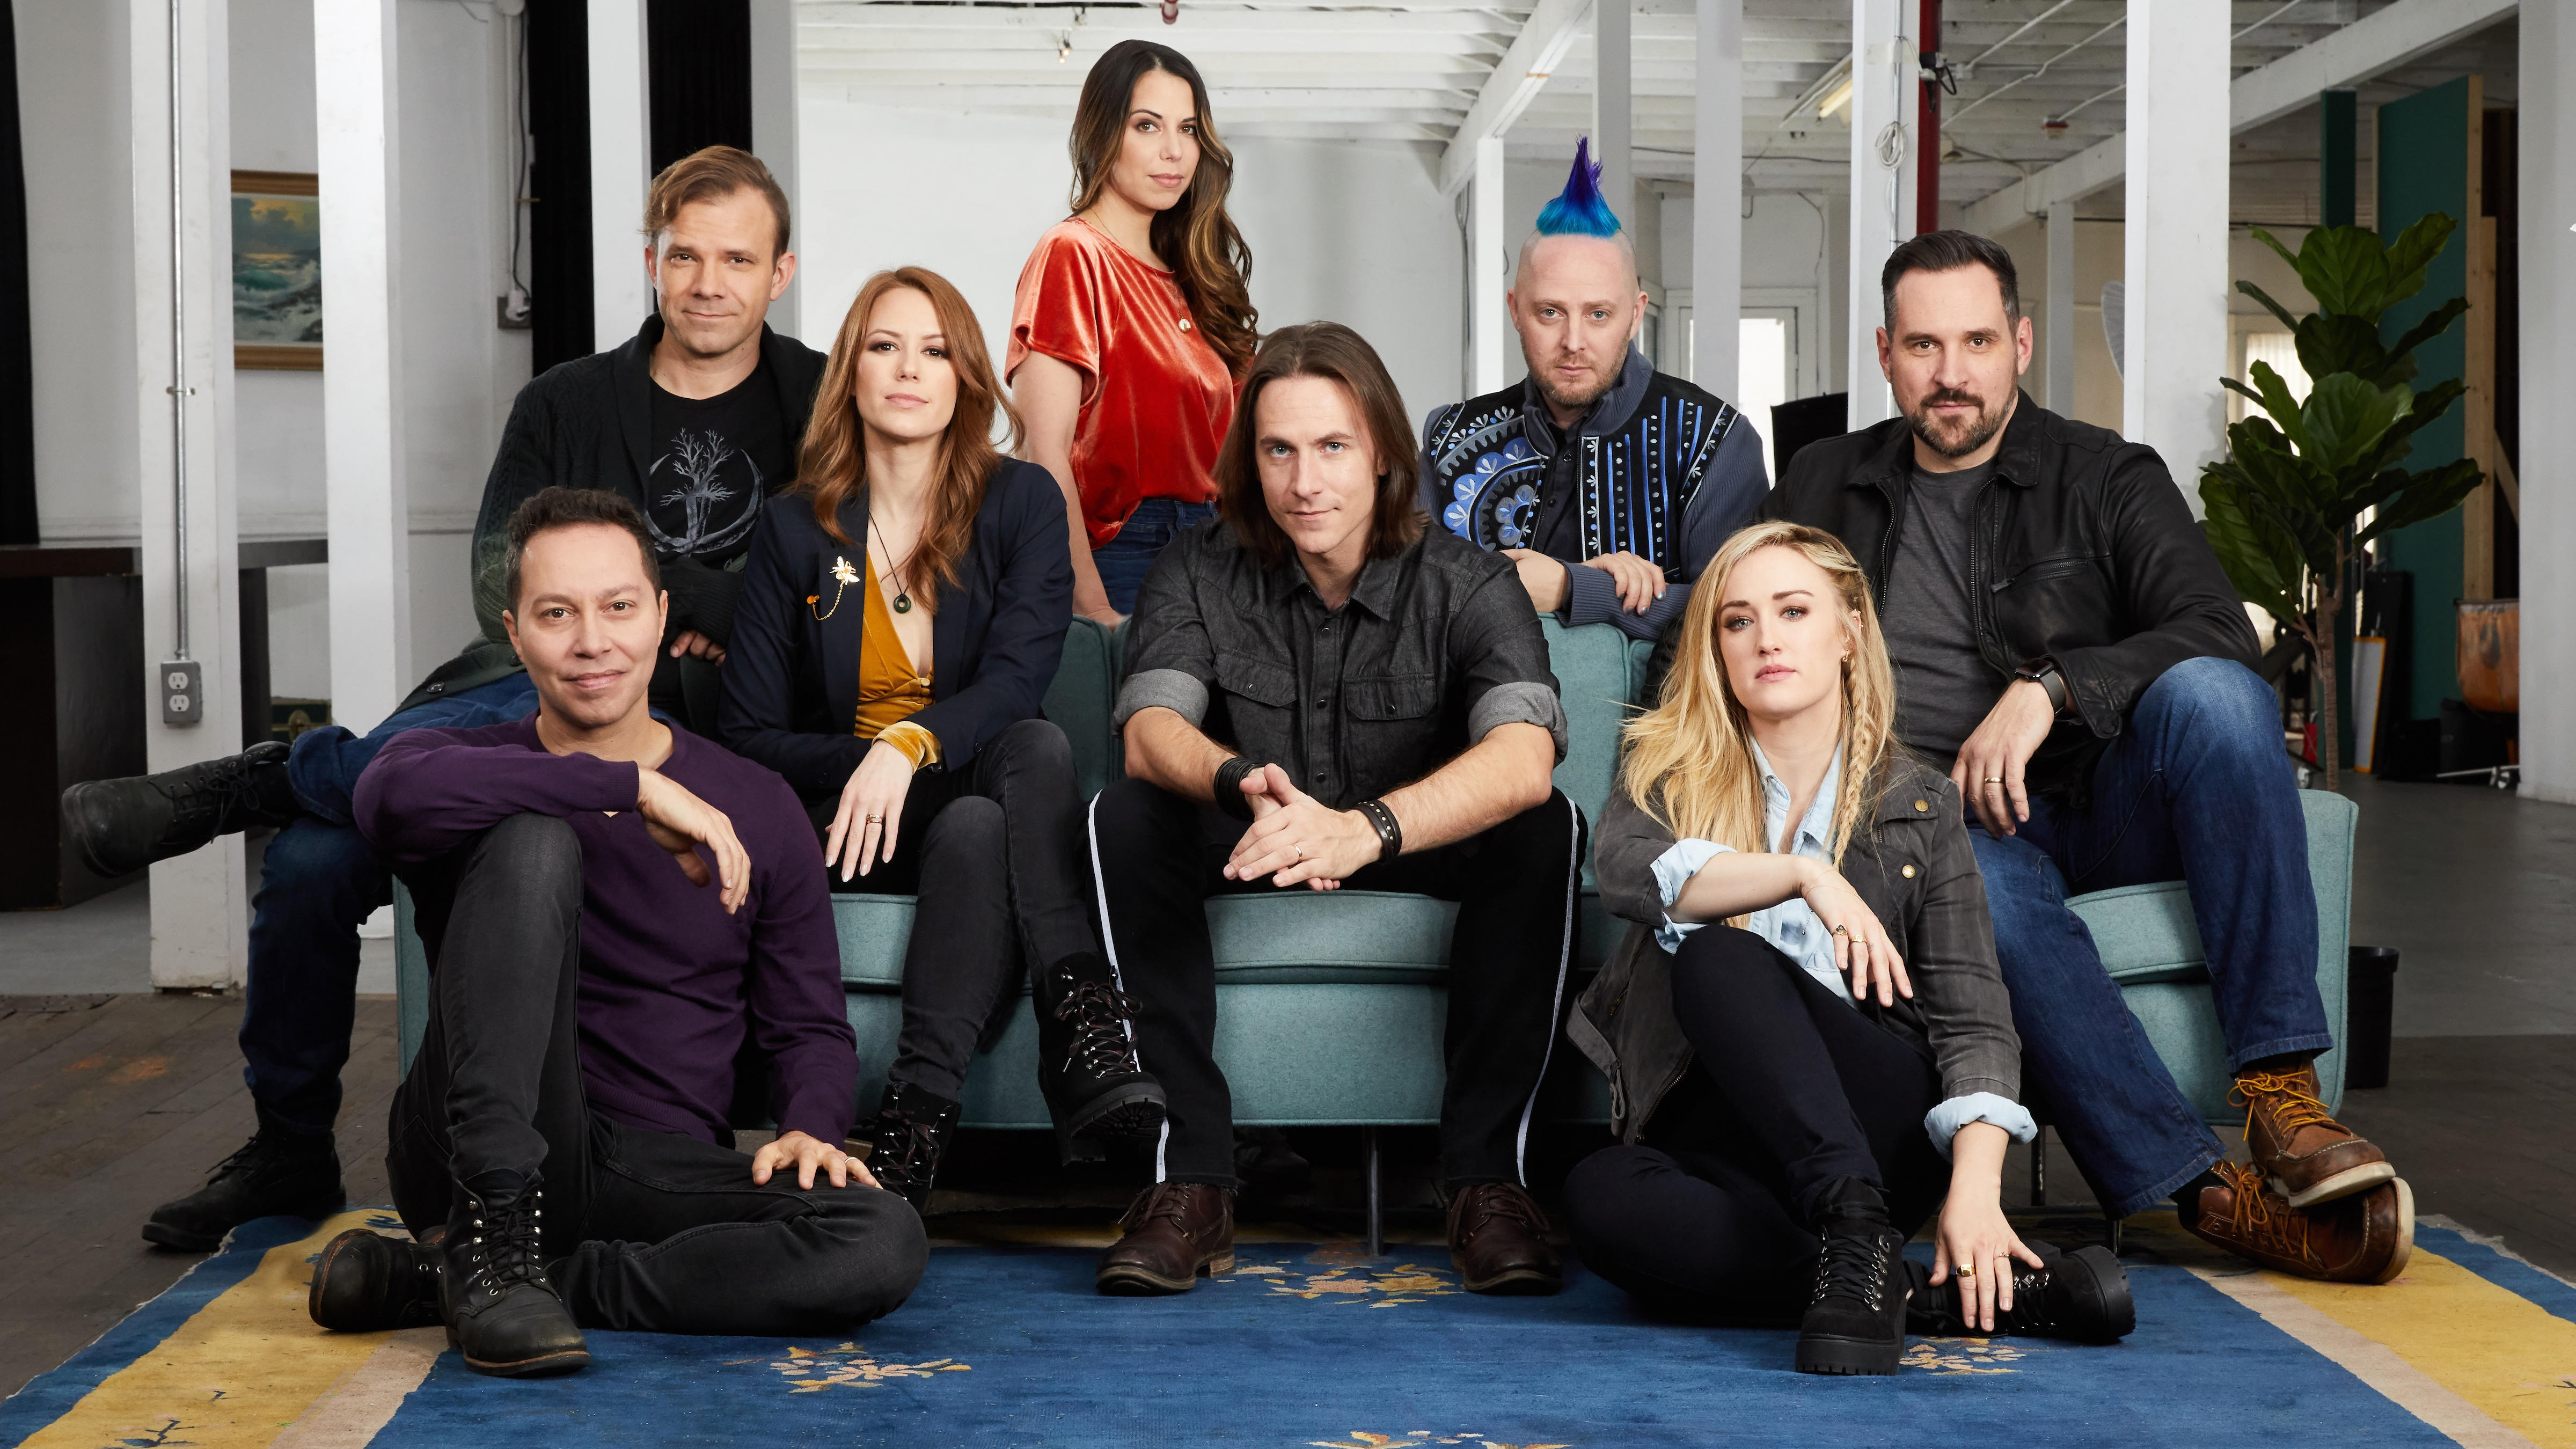bad: (1877, 299, 2022, 442), (522, 570, 665, 713), (1511, 288, 1631, 409), (1246, 421, 1366, 541), (648, 223, 768, 343), (847, 315, 966, 435), (1711, 582, 1831, 701), (1116, 97, 1215, 196)
